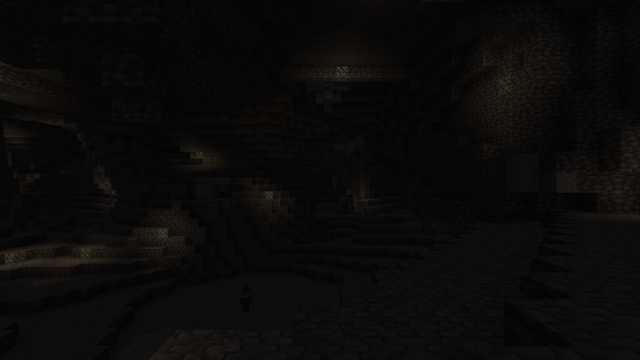sorcieres: (241, 289, 249, 314)
squelettes: (332, 177, 335, 188)
